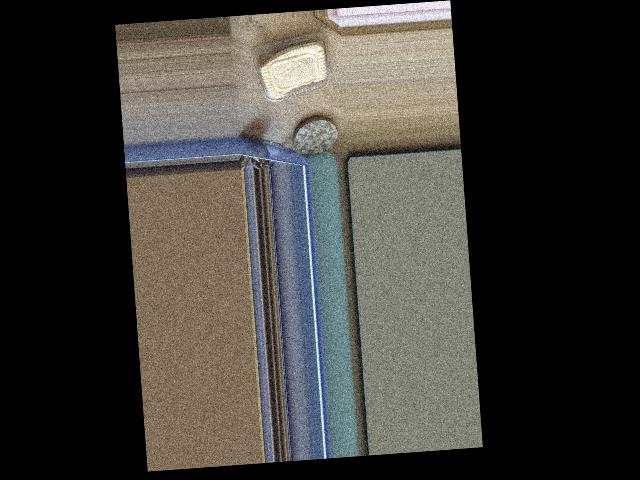cheese: (257, 14, 342, 107)
